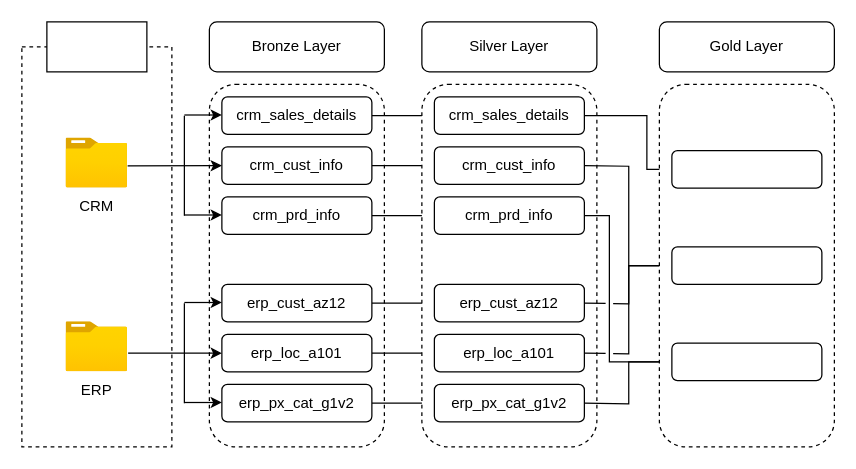
The diagram is 856 pixels wide and 469 high, and some of its shapes have lost their labels. Here are the shapes that lost their labels. From the top down, the box of each, then its label:
(46, 21, 147, 72): Sources
(671, 149, 822, 188): fact_sales
(671, 246, 822, 284): dim_costumers
(671, 342, 822, 381): dim_products
